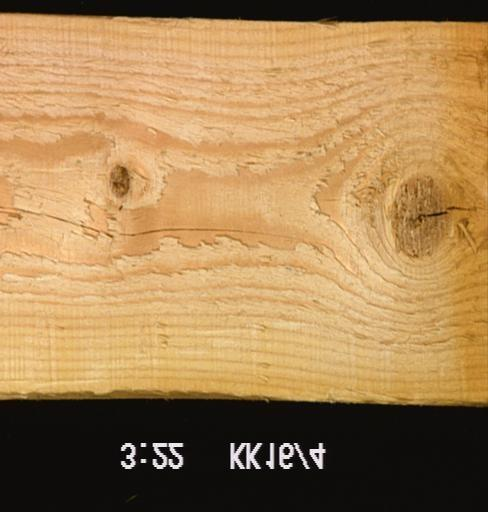sound_knot: (386, 167, 486, 263), (104, 162, 131, 200)
split: (0, 202, 340, 261)
wave: (0, 377, 384, 402)
